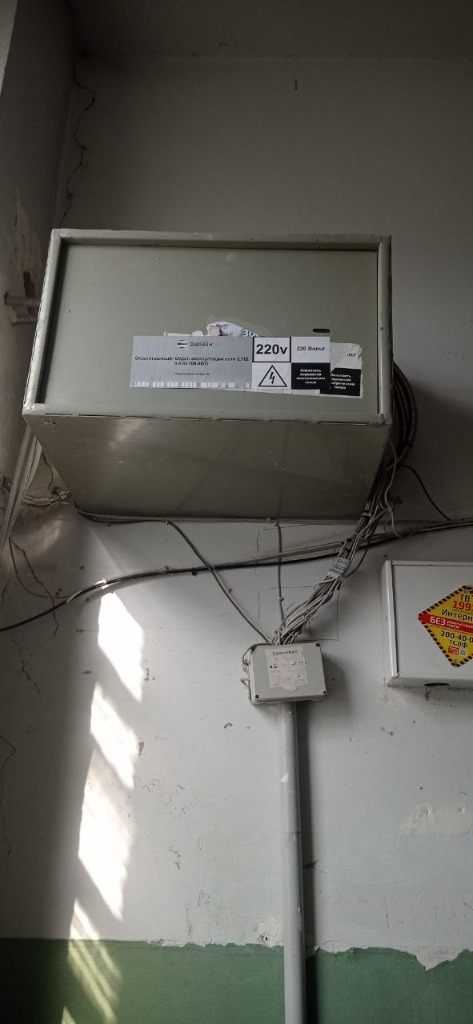e2-6u: (18, 219, 404, 528)
